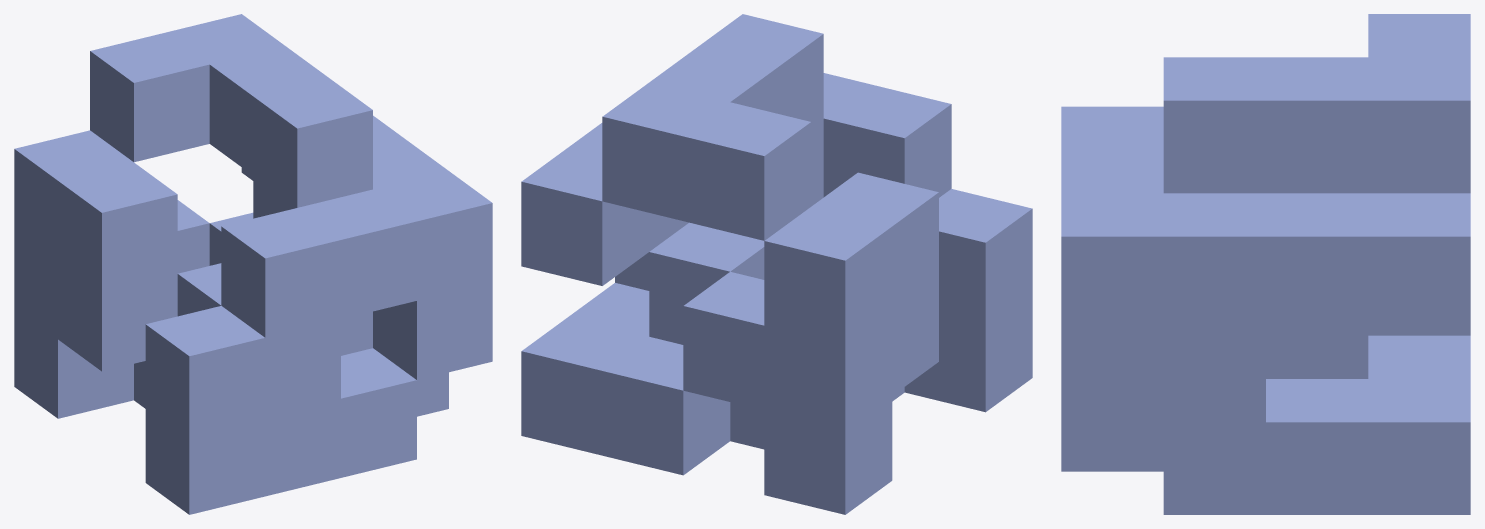
3 renders of one model, left to right at view 1: azimuth 30°, elevation 25°; view 2: azimuth 150°, elevation 25°; view 3: azimuth 270°, elevation 25°, orthographic. The views are drawn at different scales.
Visible parts, largest first — view 1: _changes.015; view 2: _changes.015; view 3: _changes.015.
Boxes of the visible parts, x1,y1,x2,y2 form: _changes.015: [14, 14, 492, 514]; _changes.015: [521, 14, 1032, 514]; _changes.015: [1061, 14, 1470, 514].
Size of the model in its own units: 0.1041 by 0.1041 by 0.1041.
